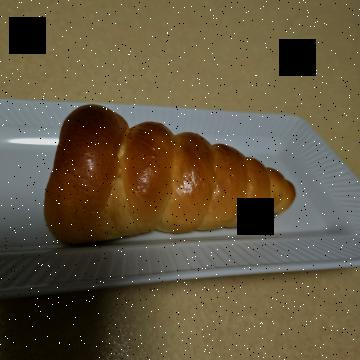cream horn: (68, 49, 276, 326)
